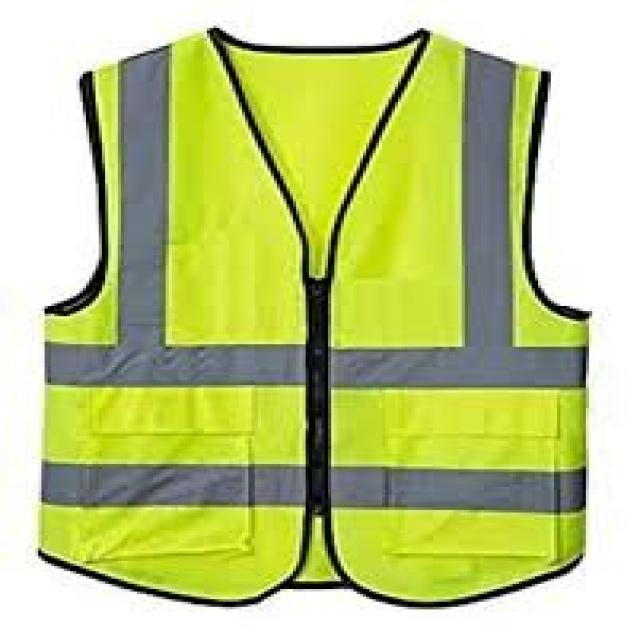Reflective-Jacket: (6, 2, 633, 640)
